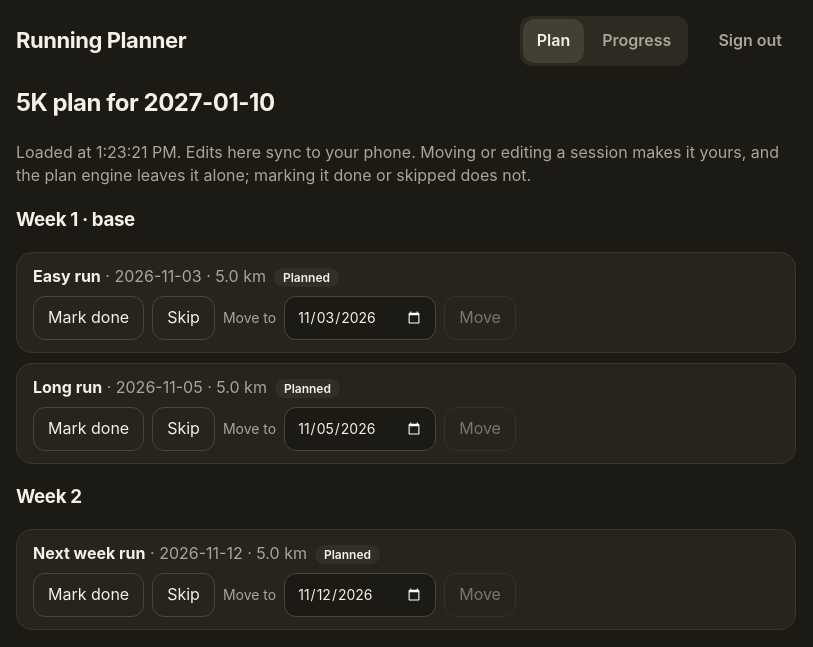
it: the plan › marks a session done with the revision it was loaded at
The image size is (813, 647).
Click the button "Mark done" below "Easy run" at (89, 318), box [33,296,144,340]
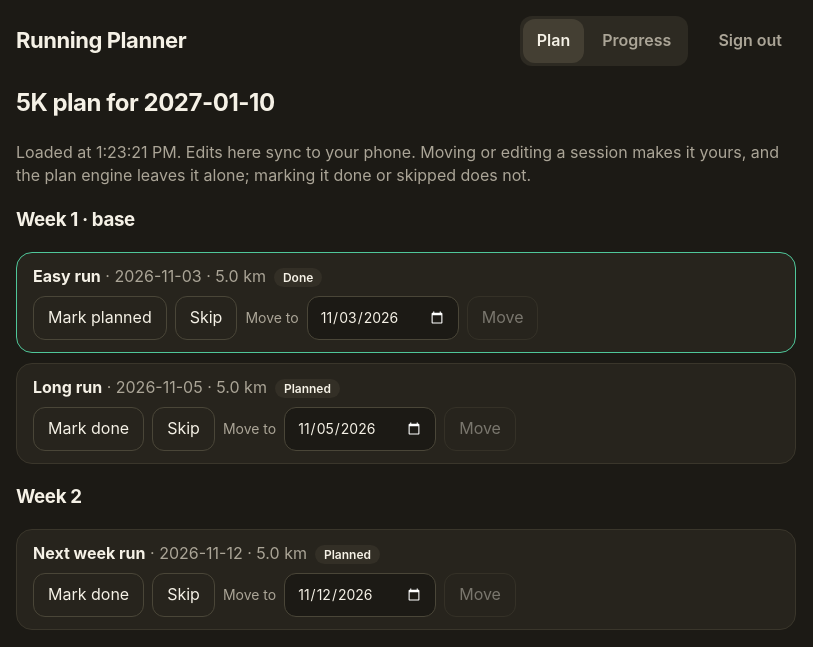
Check: the text "Done" is shown, box [274,268,322,287]
